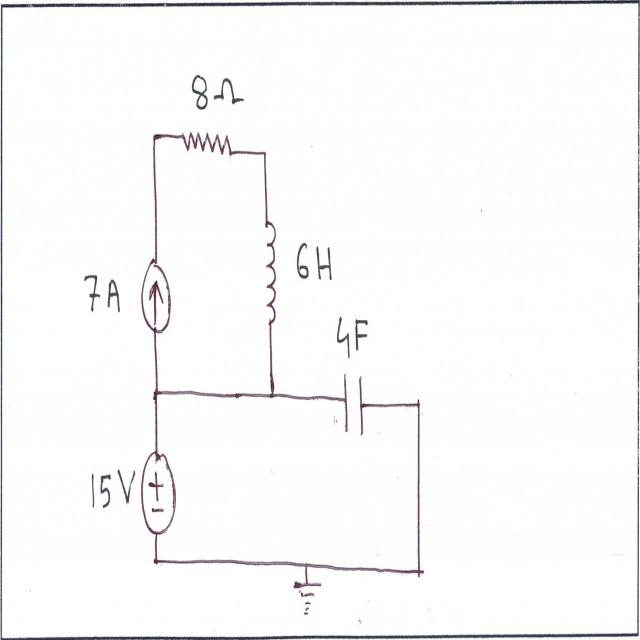capacitor: (339, 372, 366, 446)
current_source: (139, 256, 174, 336)
ground: (291, 576, 325, 622)
inductor: (261, 212, 279, 333)
resistor: (178, 116, 234, 166)
voltage_source: (140, 442, 180, 536)
